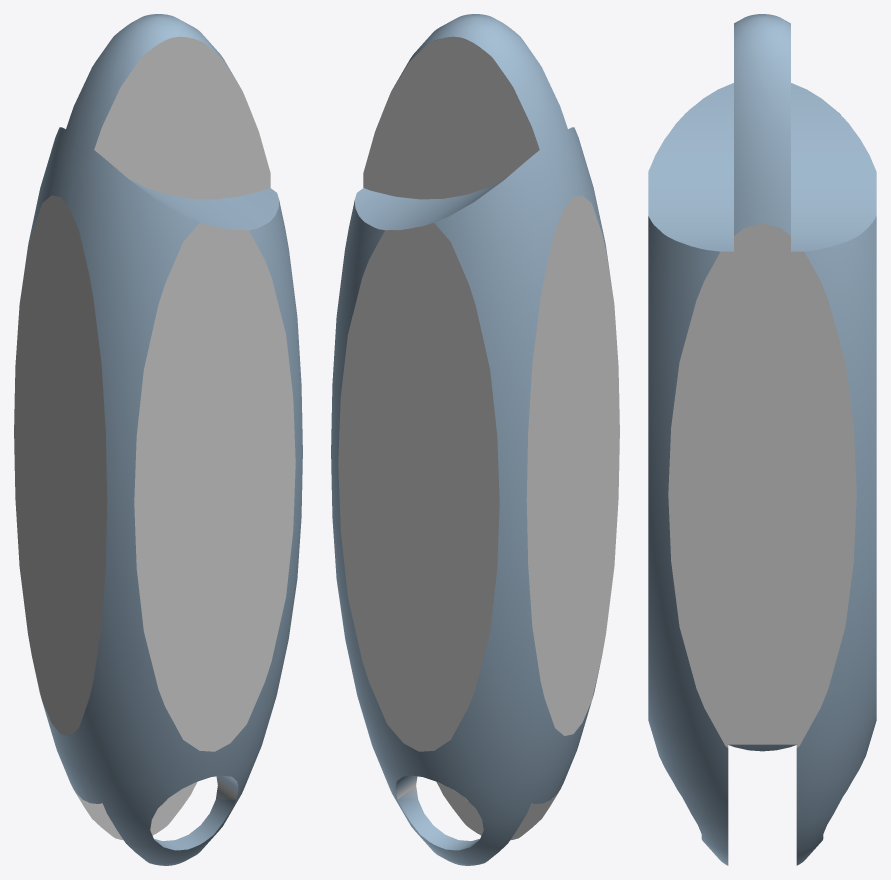
File: phalange10x3.glb
3 renders of one model, left to right at view 1: azimuth 30°, elevation 25°; view 2: azimuth 150°, elevation 25°; view 3: azimuth 270°, elevation 25°, orthographic.
Bounding box in the file's own units: 0.3 × 1.22 × 0.3.
